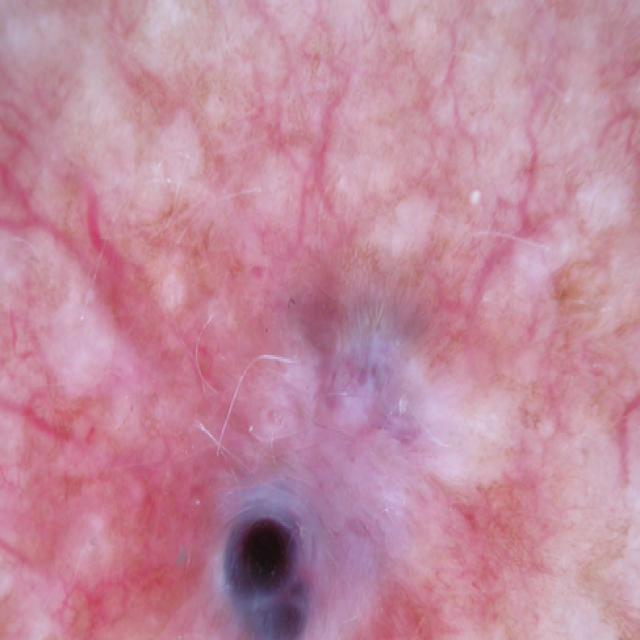Vascular Lesions: (210, 456, 346, 640)
